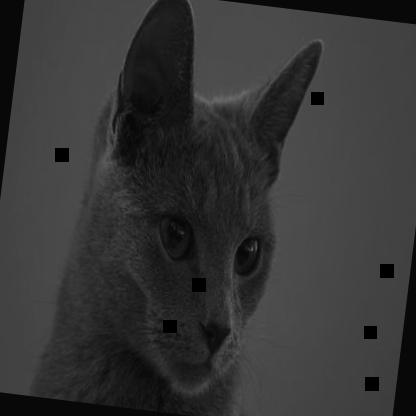cat: (24, 0, 346, 415)
